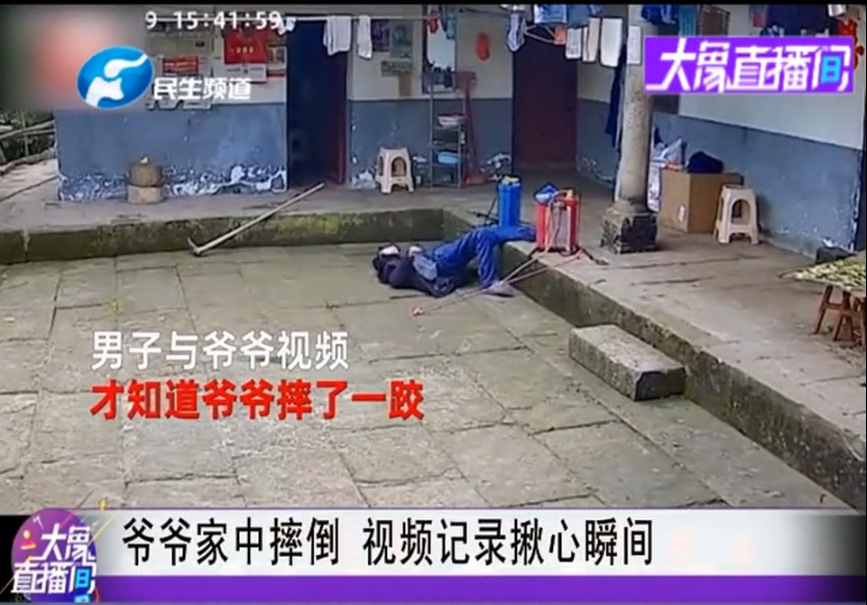fall: (367, 226, 539, 304)
